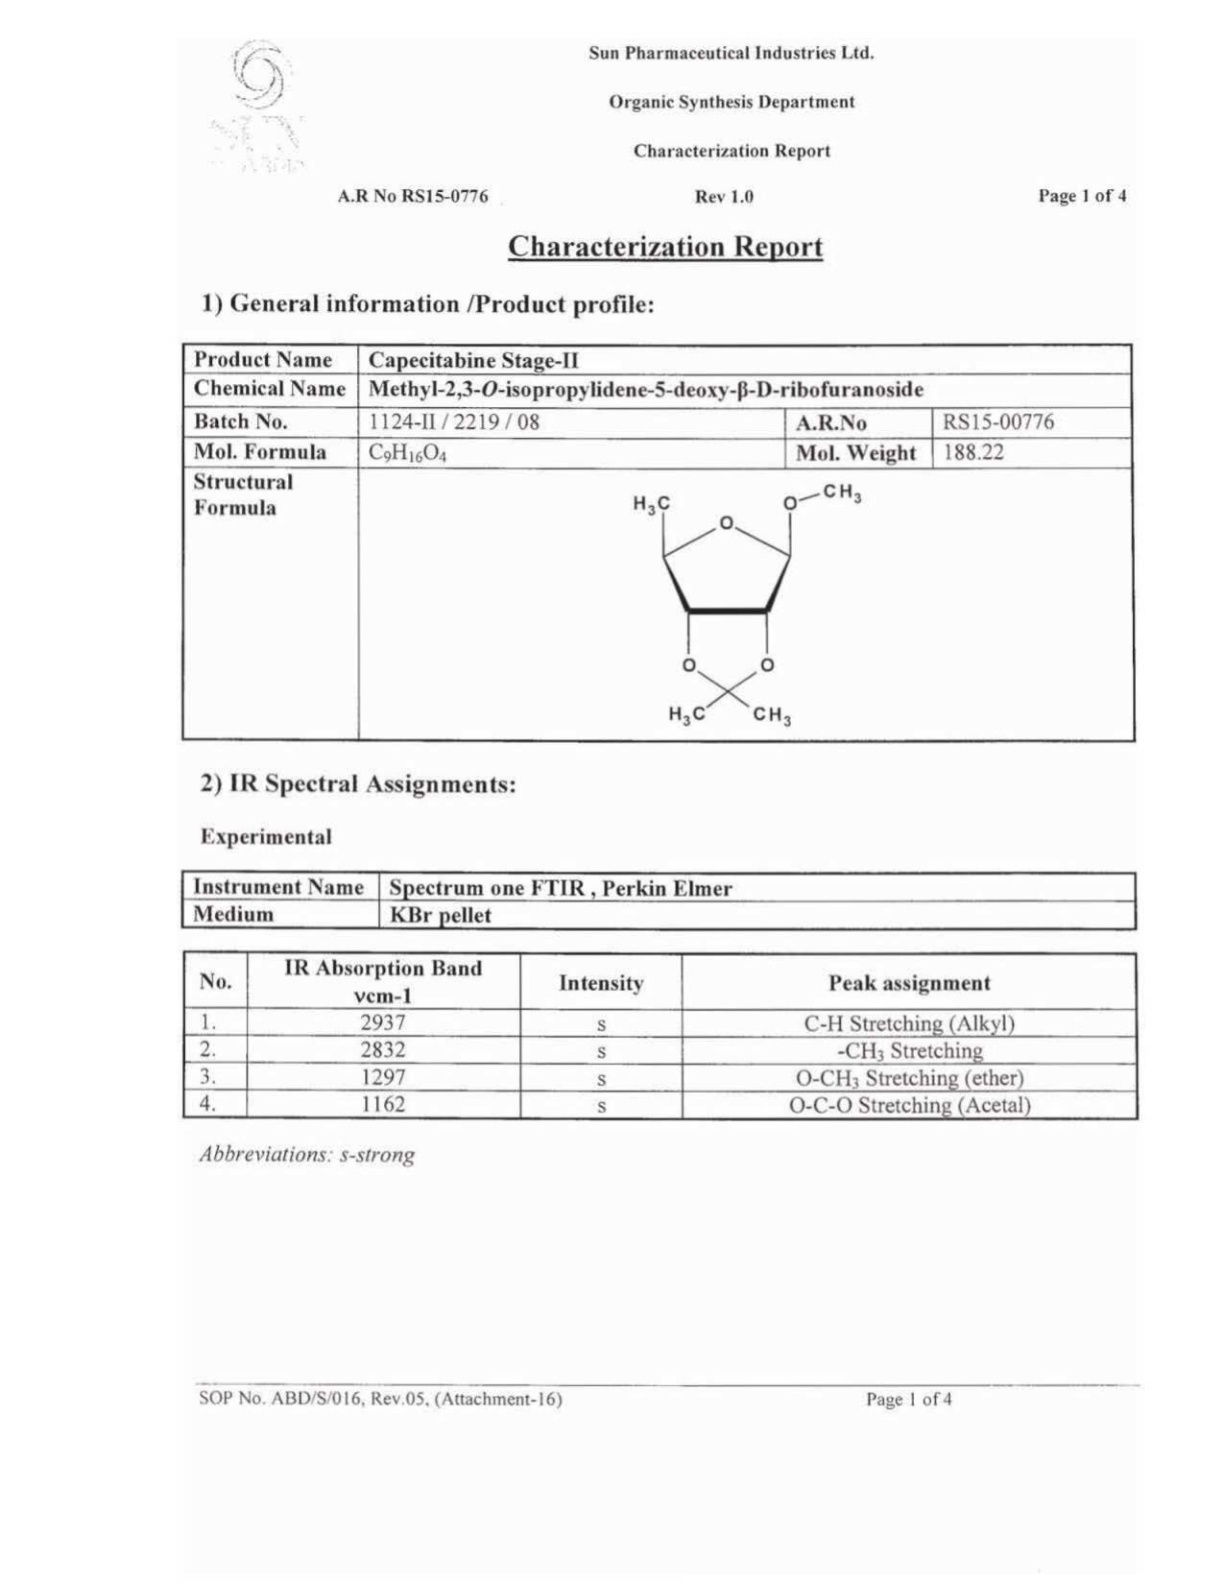full_lined: (183, 951, 1139, 1121), (181, 872, 1138, 931)
merged_cells: (181, 341, 1137, 743)
